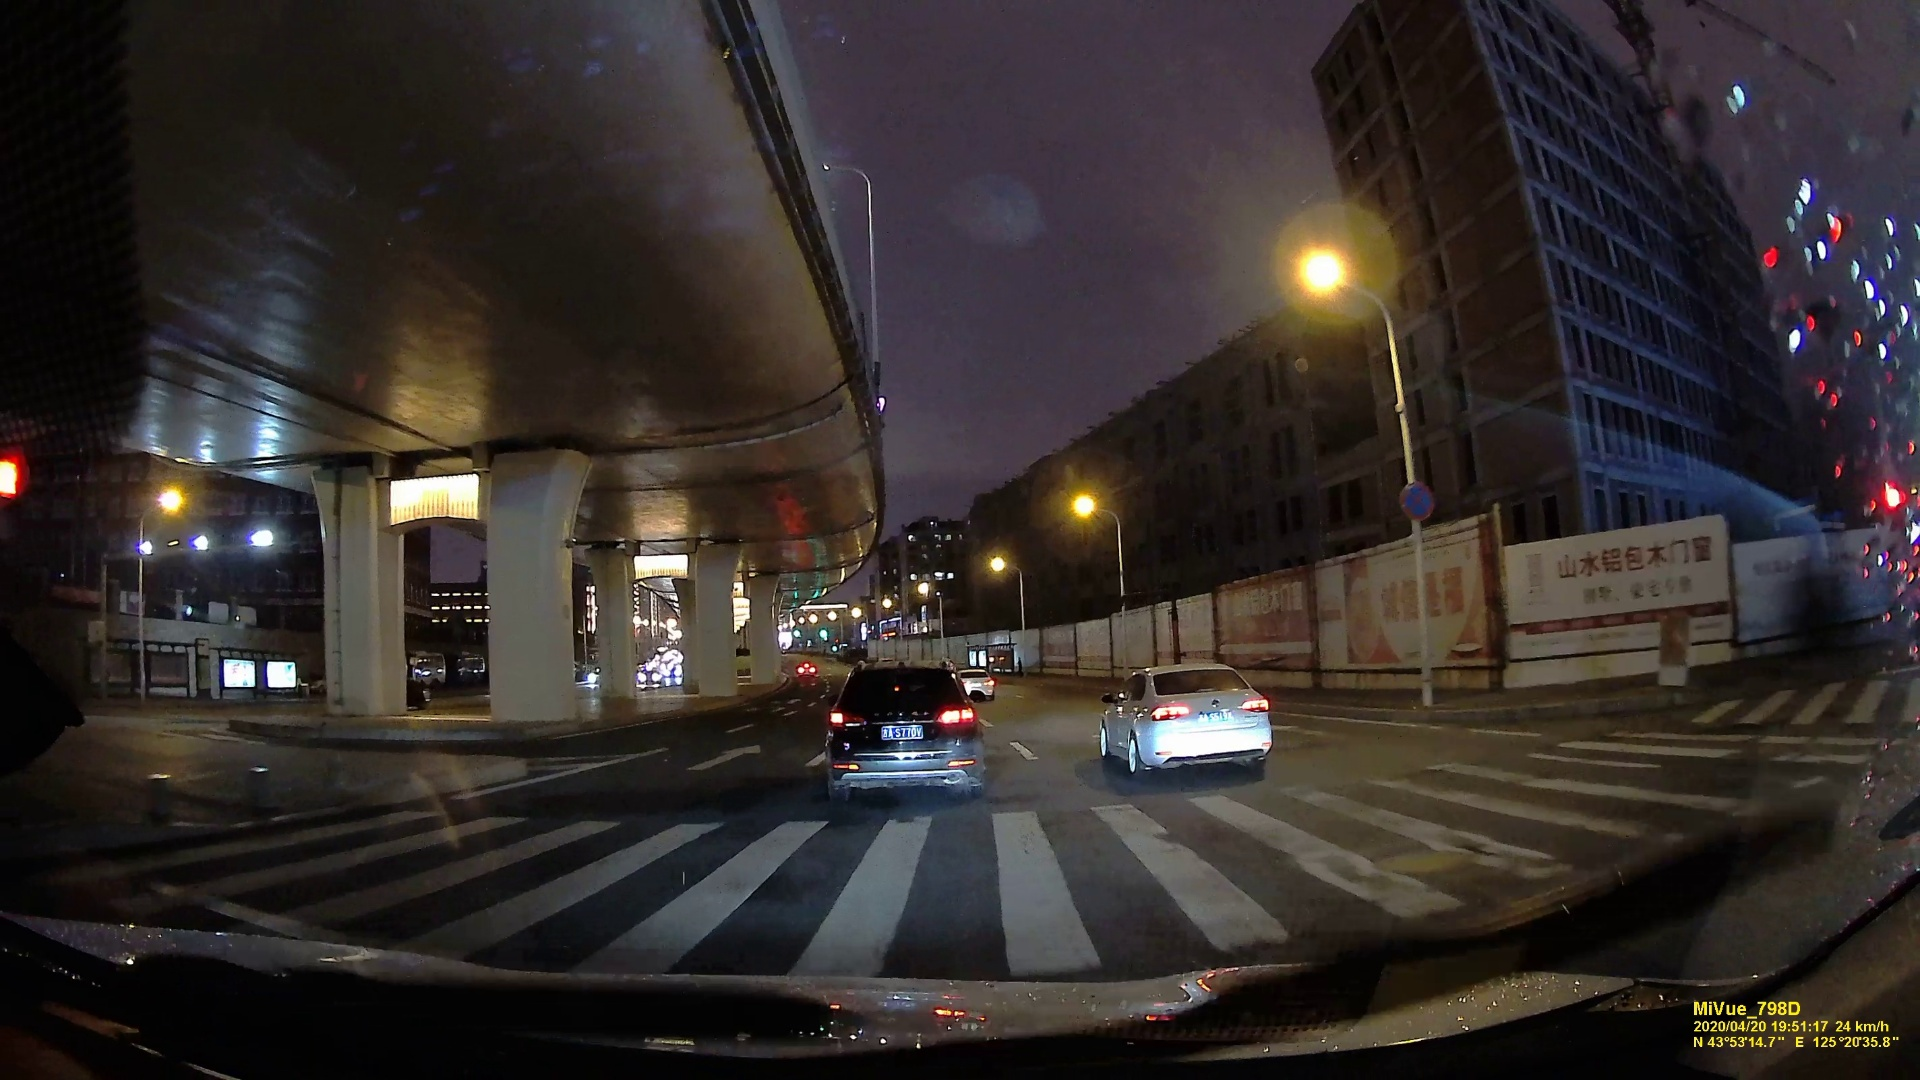traffic_sign: (1396, 481, 1433, 521)
vehicle: (816, 657, 989, 814), (1093, 657, 1278, 778), (795, 663, 816, 676)
